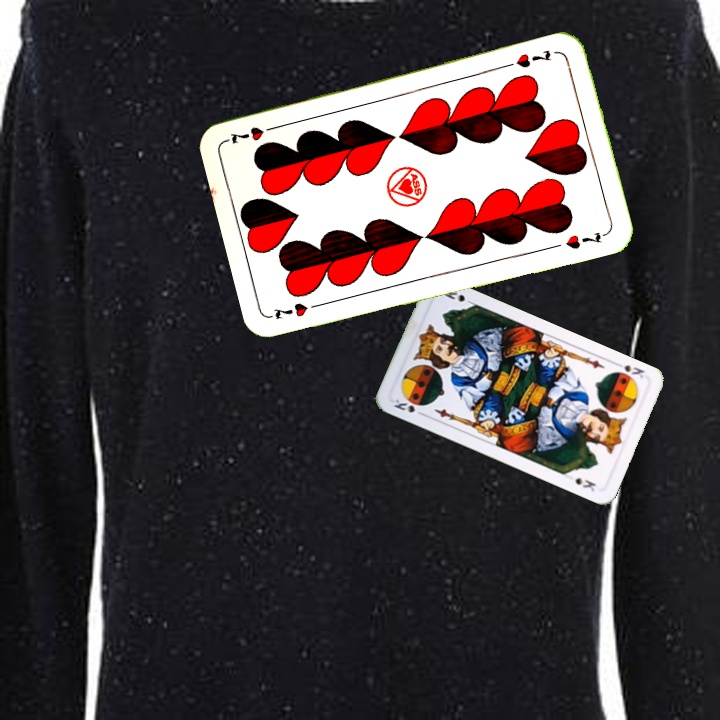H7: (269, 298, 326, 322), (511, 45, 553, 71)
SK: (390, 395, 428, 419), (611, 358, 647, 381)
